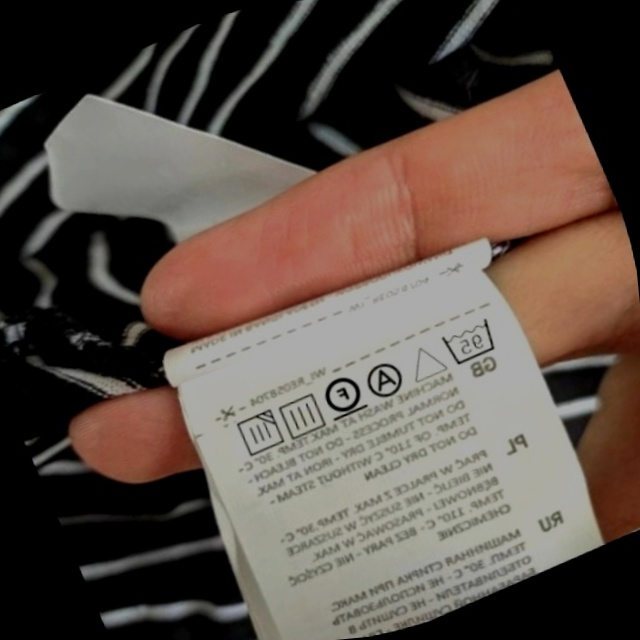95C: (434, 311, 505, 372)
bleach: (400, 334, 451, 389)
drip_dry: (272, 386, 332, 445)
drip_dry_in_shade: (227, 404, 289, 465)
dry_clean: (359, 353, 412, 405)
dry_clean_petrol_only: (314, 365, 371, 426)
